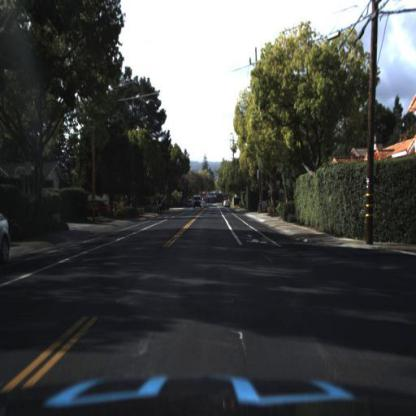biker: (157, 197, 166, 218)
car: (1, 210, 12, 272), (89, 199, 115, 222), (191, 192, 205, 215), (223, 199, 233, 212)
